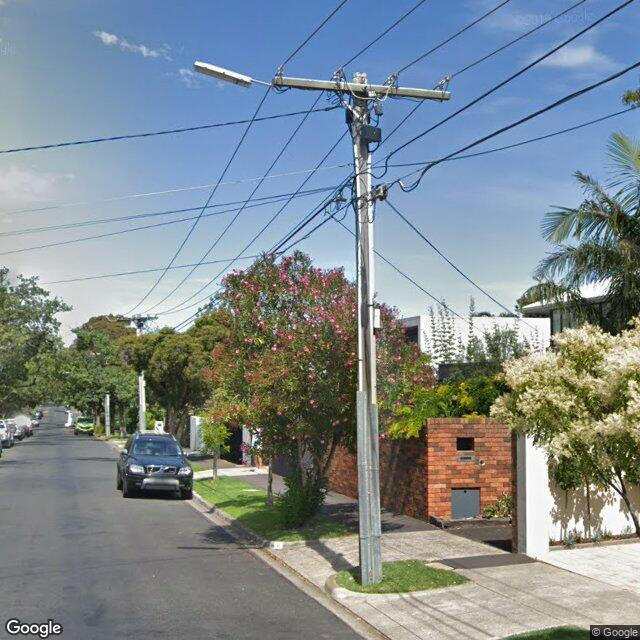crossarm: (274, 64, 452, 102), (116, 314, 158, 322)
streetlight: (194, 61, 272, 89)
timber-pole: (352, 70, 382, 586), (136, 314, 147, 431)
